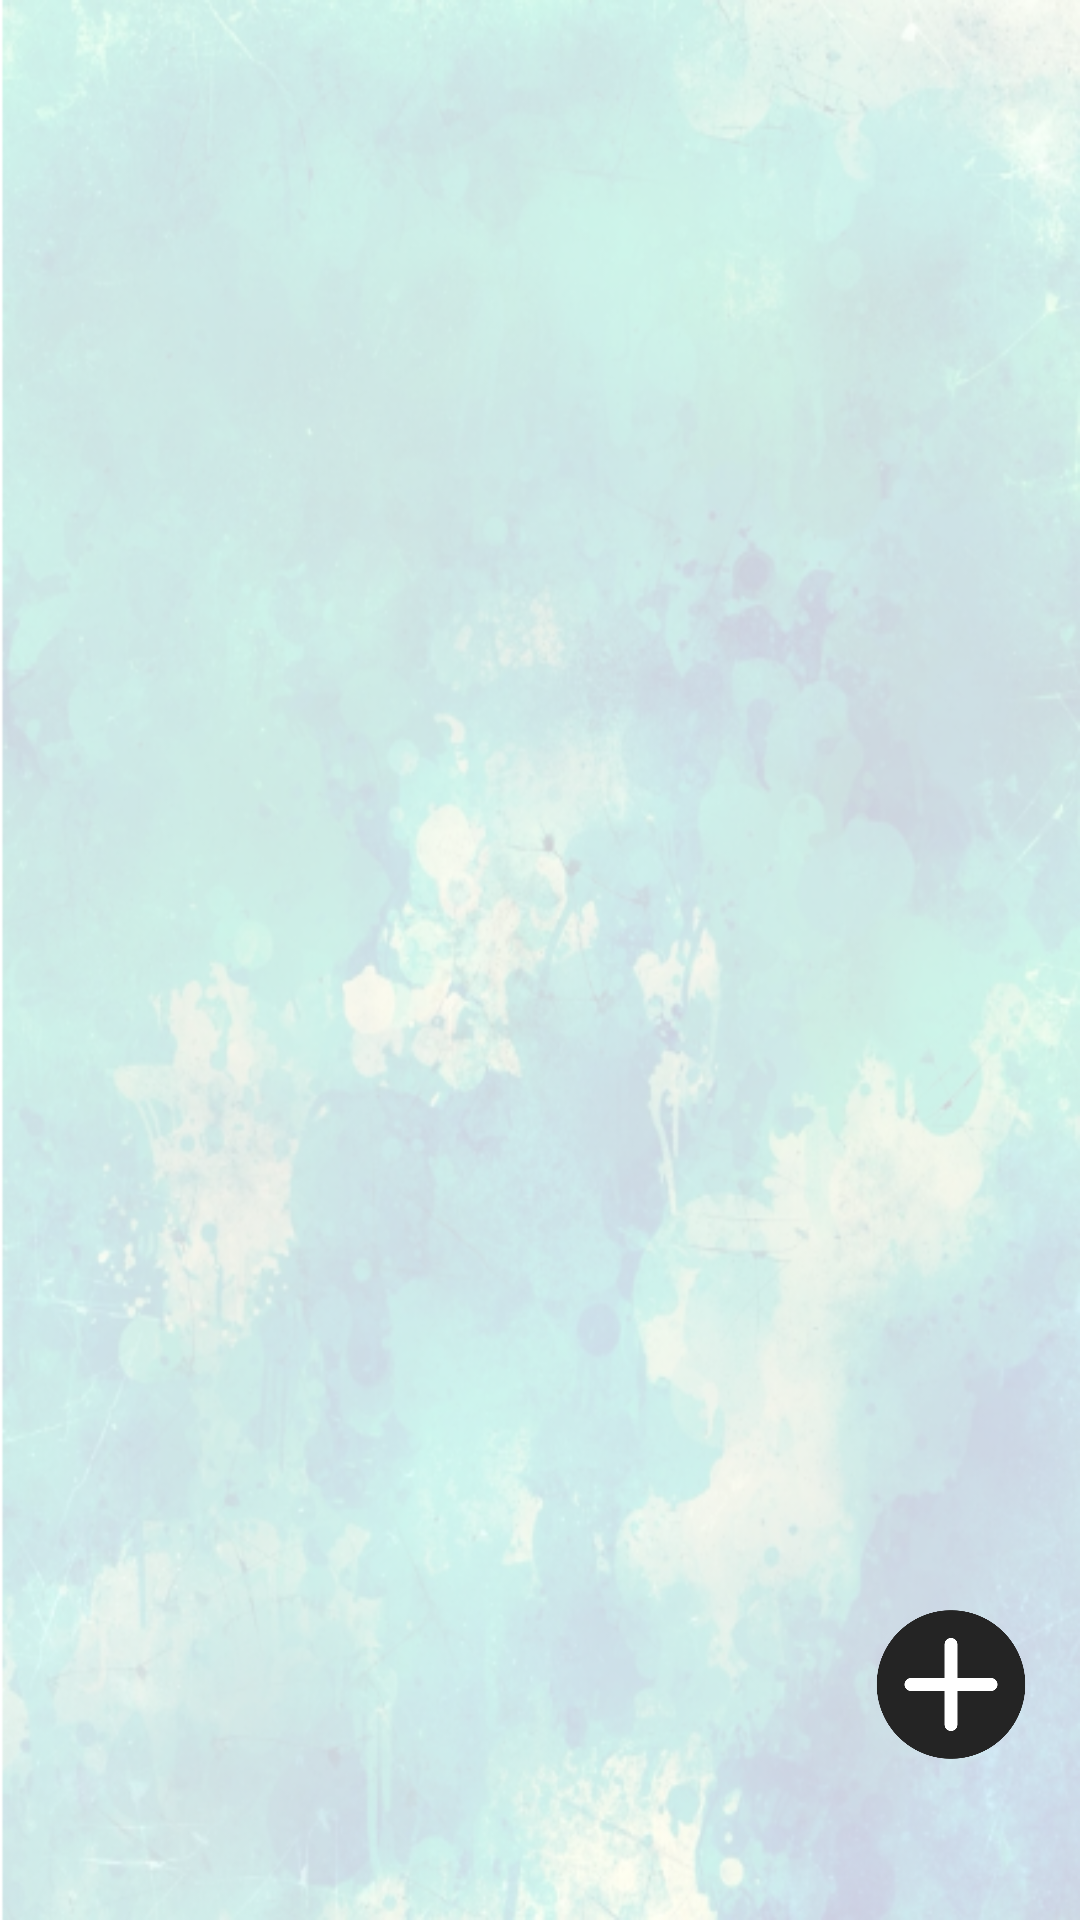

Icons on this 1080 x 1920 Android screen, each with its box as bbox(x1, y1, x2, y2):
add: bbox(877, 1610, 1025, 1759)
